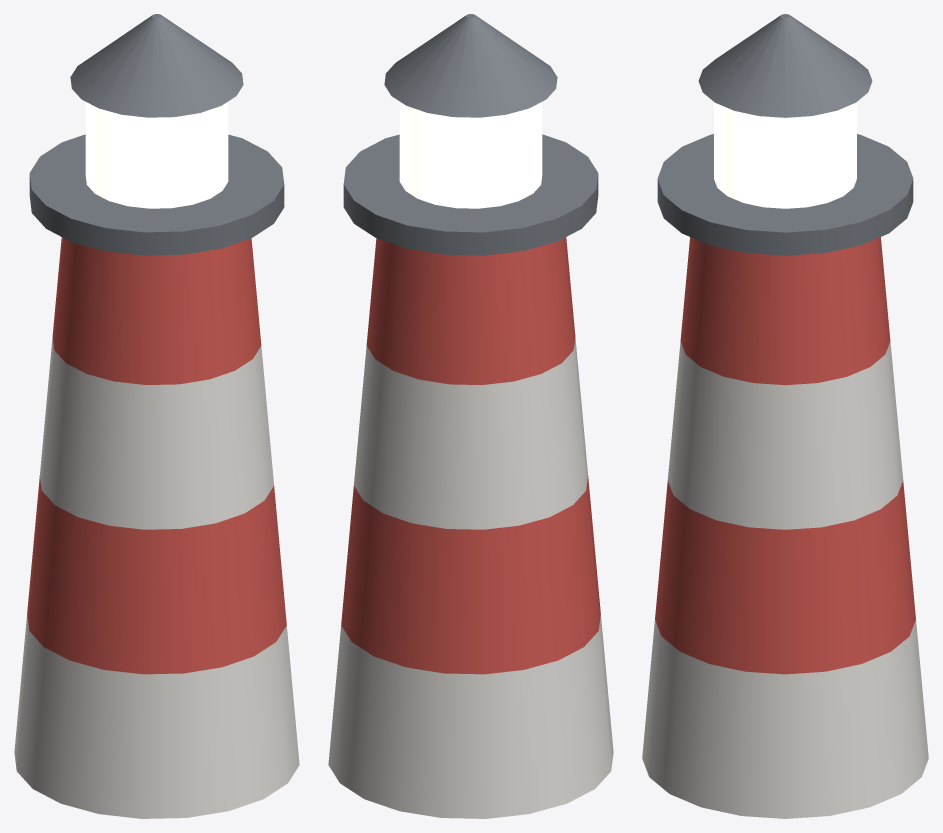
The model's file is lighthouse.gltf.
3 renders of one model, left to right at view 1: azimuth 30°, elevation 25°; view 2: azimuth 150°, elevation 25°; view 3: azimuth 270°, elevation 25°, orthographic.
Parts seen in each view (by area): view 1: Lighthouse; view 2: Lighthouse; view 3: Lighthouse.
Boxes of the visible parts, box(x1,y1,x2,y2) form: Lighthouse: box(14, 14, 299, 818); Lighthouse: box(328, 14, 613, 818); Lighthouse: box(642, 14, 928, 818).
Size of the model in its own units: 2.8 by 8 by 2.8.
